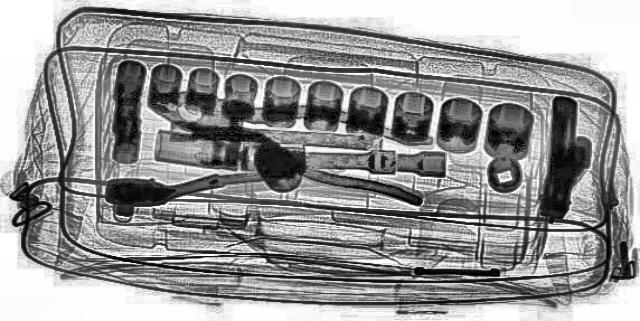Gun: (534, 94, 598, 222)
